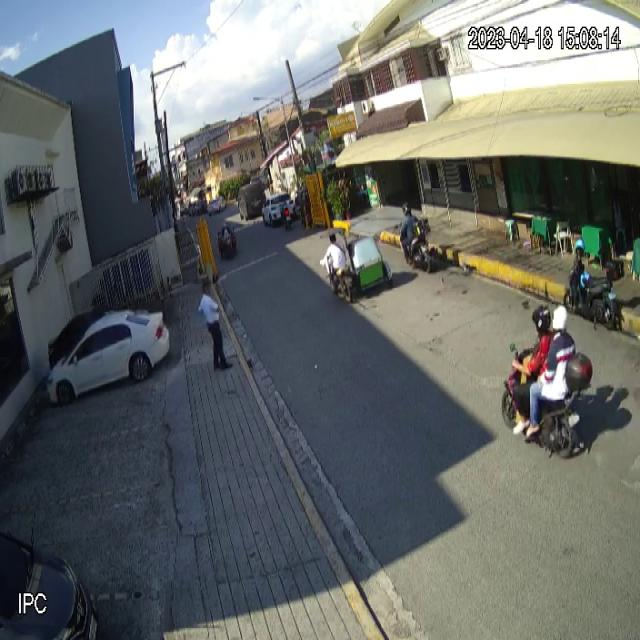Car: (46, 310, 170, 404)
Motorcycle: (563, 248, 625, 331)
Tricycle: (320, 228, 392, 302)
